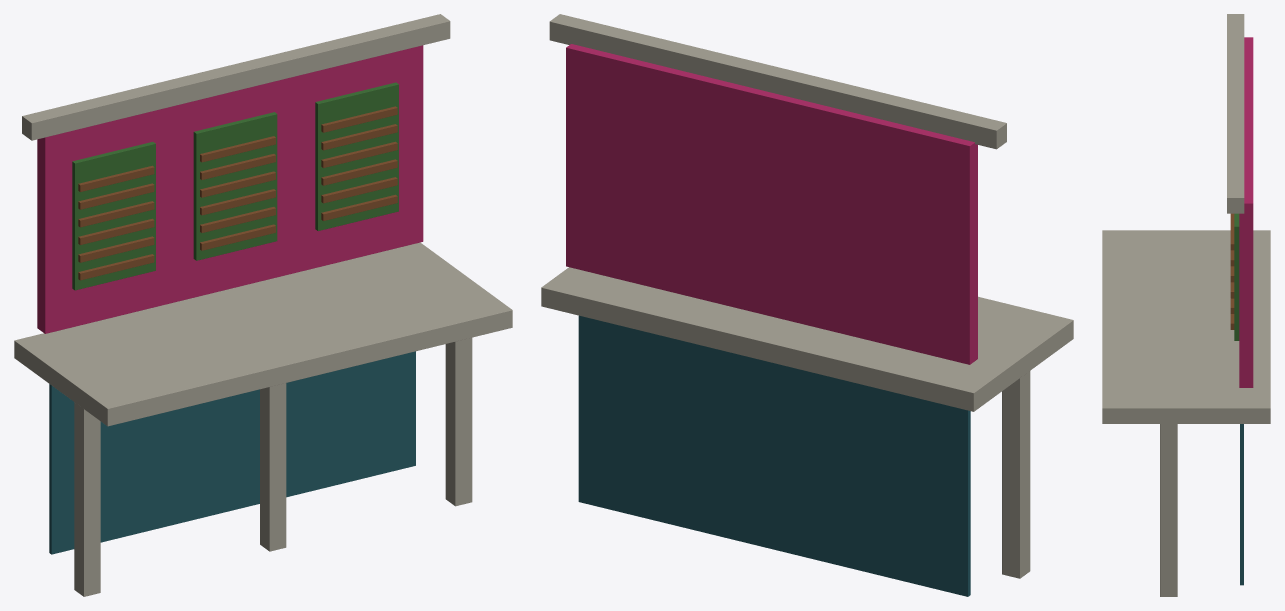
File: singapore-shophouse-facade.glb
3 renders of one model, left to right at view 1: azimuth 30°, elevation 25°; view 2: azimuth 150°, elevation 25°; view 3: azimuth 270°, elevation 25°, orthographic. The views are drawn at different scales.
Visible parts, largest first — view 1: Arcade_Canopy, Upper_Facade, Shopfront, Cornice, Shutter_Window.001, Shutter_Window, Shutter_Window.002, Arcade_Column.001, Arcade_Column, Arcade_Column.002, Shutter_Louvre.014, Shutter_Louvre.017 (+16 smaller); view 2: Upper_Facade, Shopfront, Arcade_Canopy, Cornice, Arcade_Column.001; view 3: Arcade_Canopy, Upper_Facade, Cornice, Arcade_Column, Shutter_Window.002, Shopfront.
Part boxes in pixels (x1,y1,x2,y2): Arcade_Canopy: (14, 242, 512, 426); Upper_Facade: (37, 45, 423, 333); Shopfront: (49, 351, 415, 554); Cornice: (22, 14, 450, 140); Shutter_Window.001: (193, 112, 277, 260); Shutter_Window: (72, 142, 155, 290); Shutter_Window.002: (315, 82, 398, 230); Arcade_Column.001: (74, 402, 100, 596); Arcade_Column: (445, 337, 472, 506); Arcade_Column.002: (260, 383, 286, 551); Shutter_Louvre.014: (321, 159, 397, 185); Shutter_Louvre.017: (321, 106, 397, 132); Upper_Facade: (566, 44, 977, 364); Shopfront: (578, 315, 970, 596); Arcade_Canopy: (541, 267, 1073, 411); Cornice: (549, 14, 1006, 149); Arcade_Column.001: (1002, 371, 1030, 578); Arcade_Canopy: (1102, 230, 1270, 423); Upper_Facade: (1239, 37, 1253, 387); Cornice: (1227, 14, 1244, 213); Arcade_Column: (1160, 424, 1177, 596); Shutter_Window.002: (1234, 213, 1239, 340); Shopfront: (1240, 424, 1243, 585).
Bounding box in the file's own units: 6.2 × 6.38 × 2.4.
